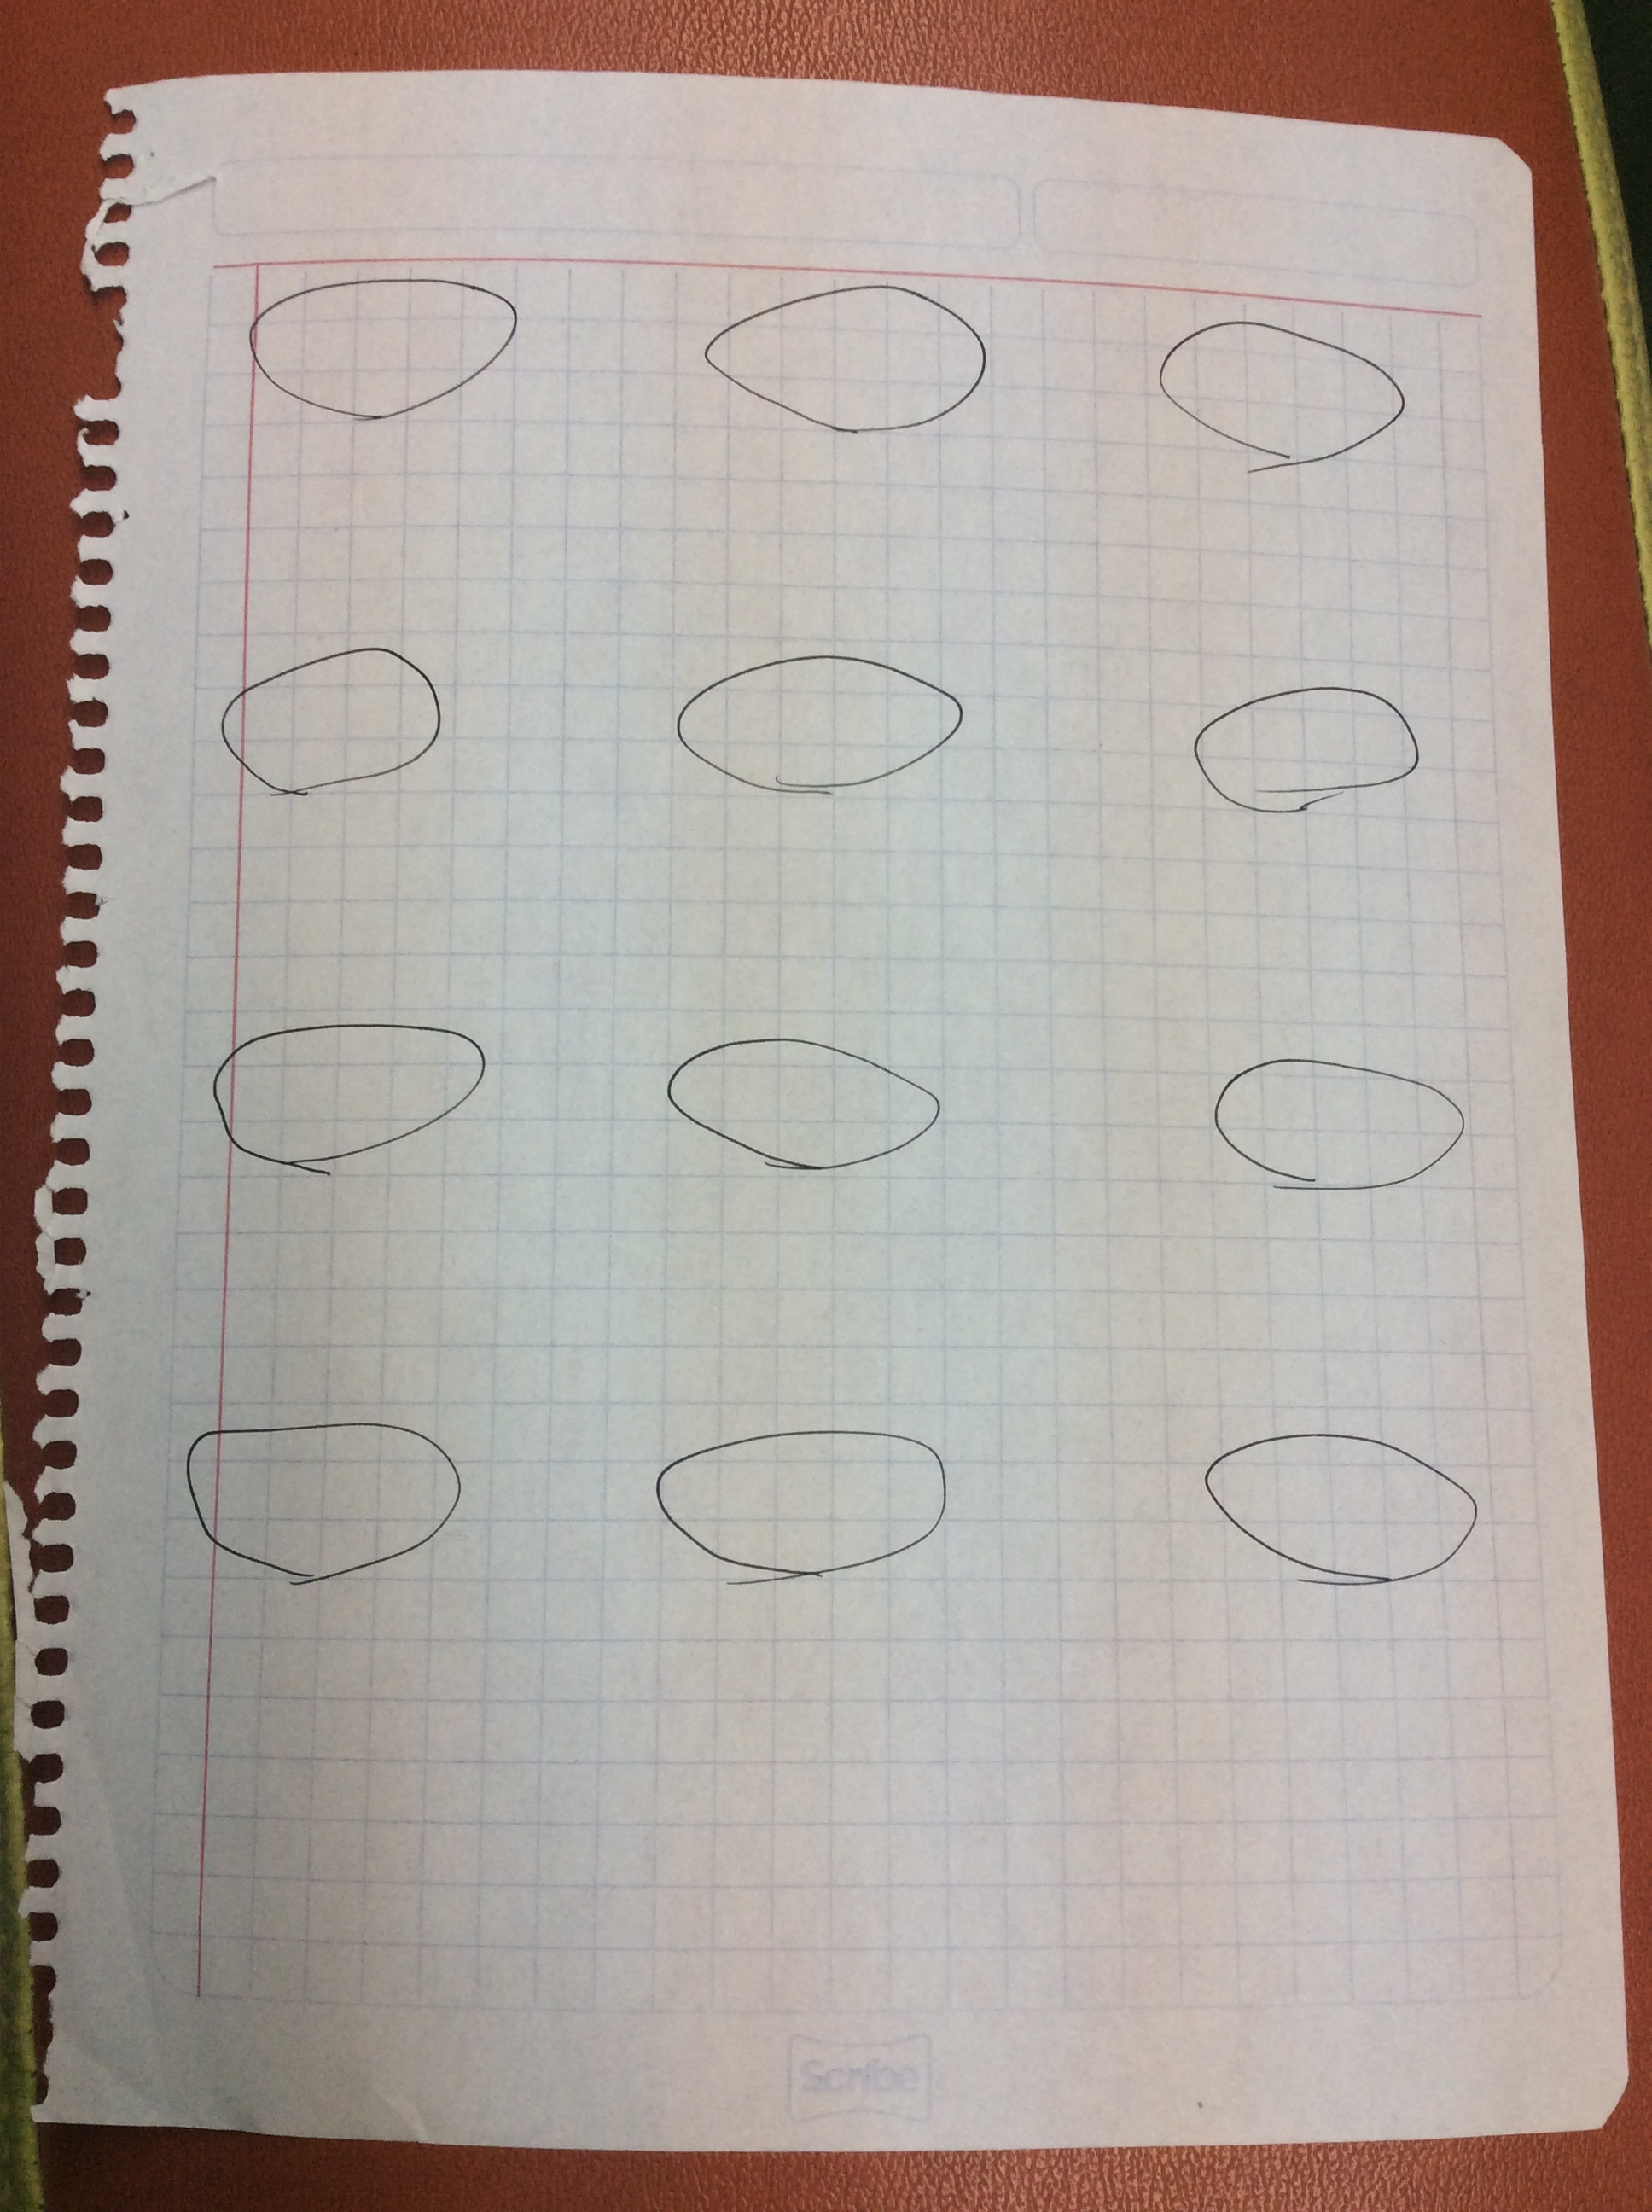start_end: (158, 1372, 489, 1629), (630, 1407, 991, 1634), (1170, 1397, 1524, 1626), (1128, 276, 1439, 512), (680, 253, 1012, 474), (182, 991, 514, 1209), (623, 1006, 984, 1202), (647, 607, 979, 819), (224, 243, 541, 461), (1170, 1024, 1506, 1228), (200, 618, 465, 847), (1173, 656, 1456, 864)
